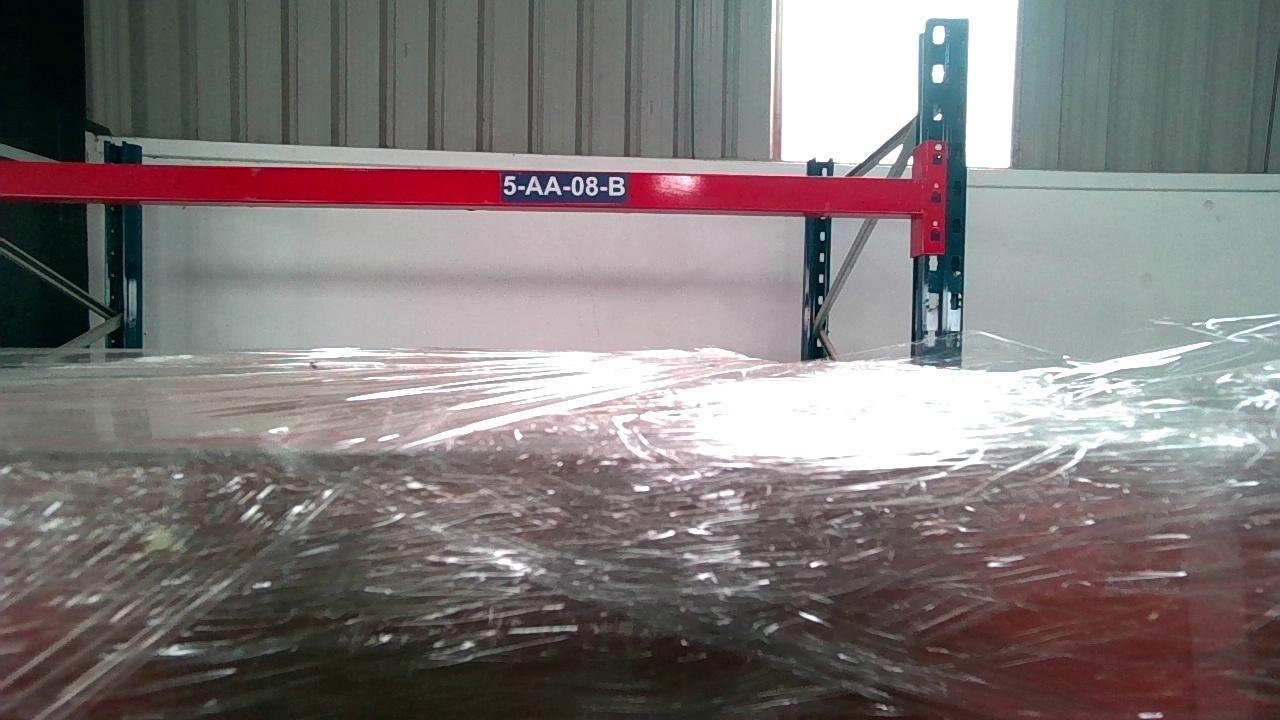h_rack: (0, 160, 925, 213)
